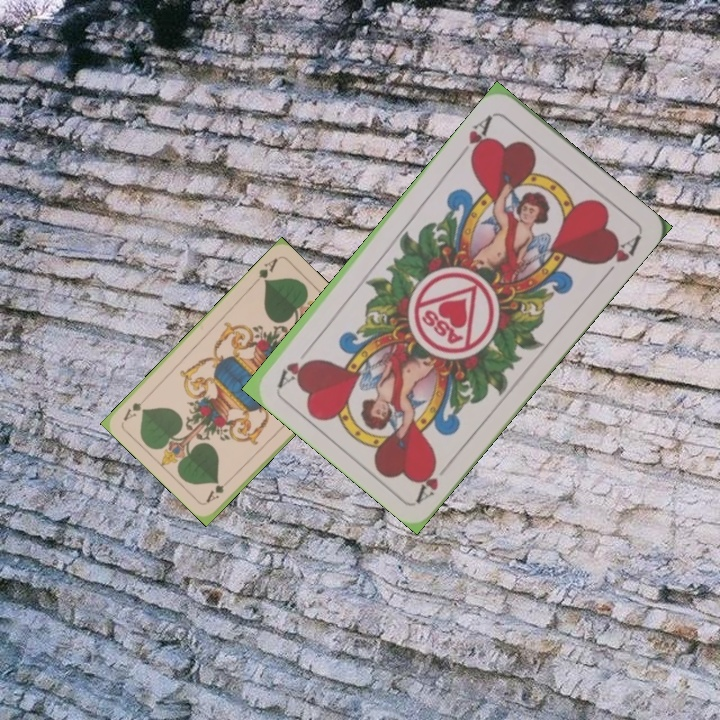GA: (249, 254, 281, 288), (202, 473, 235, 505)
HA: (455, 110, 498, 165), (412, 454, 457, 504)
